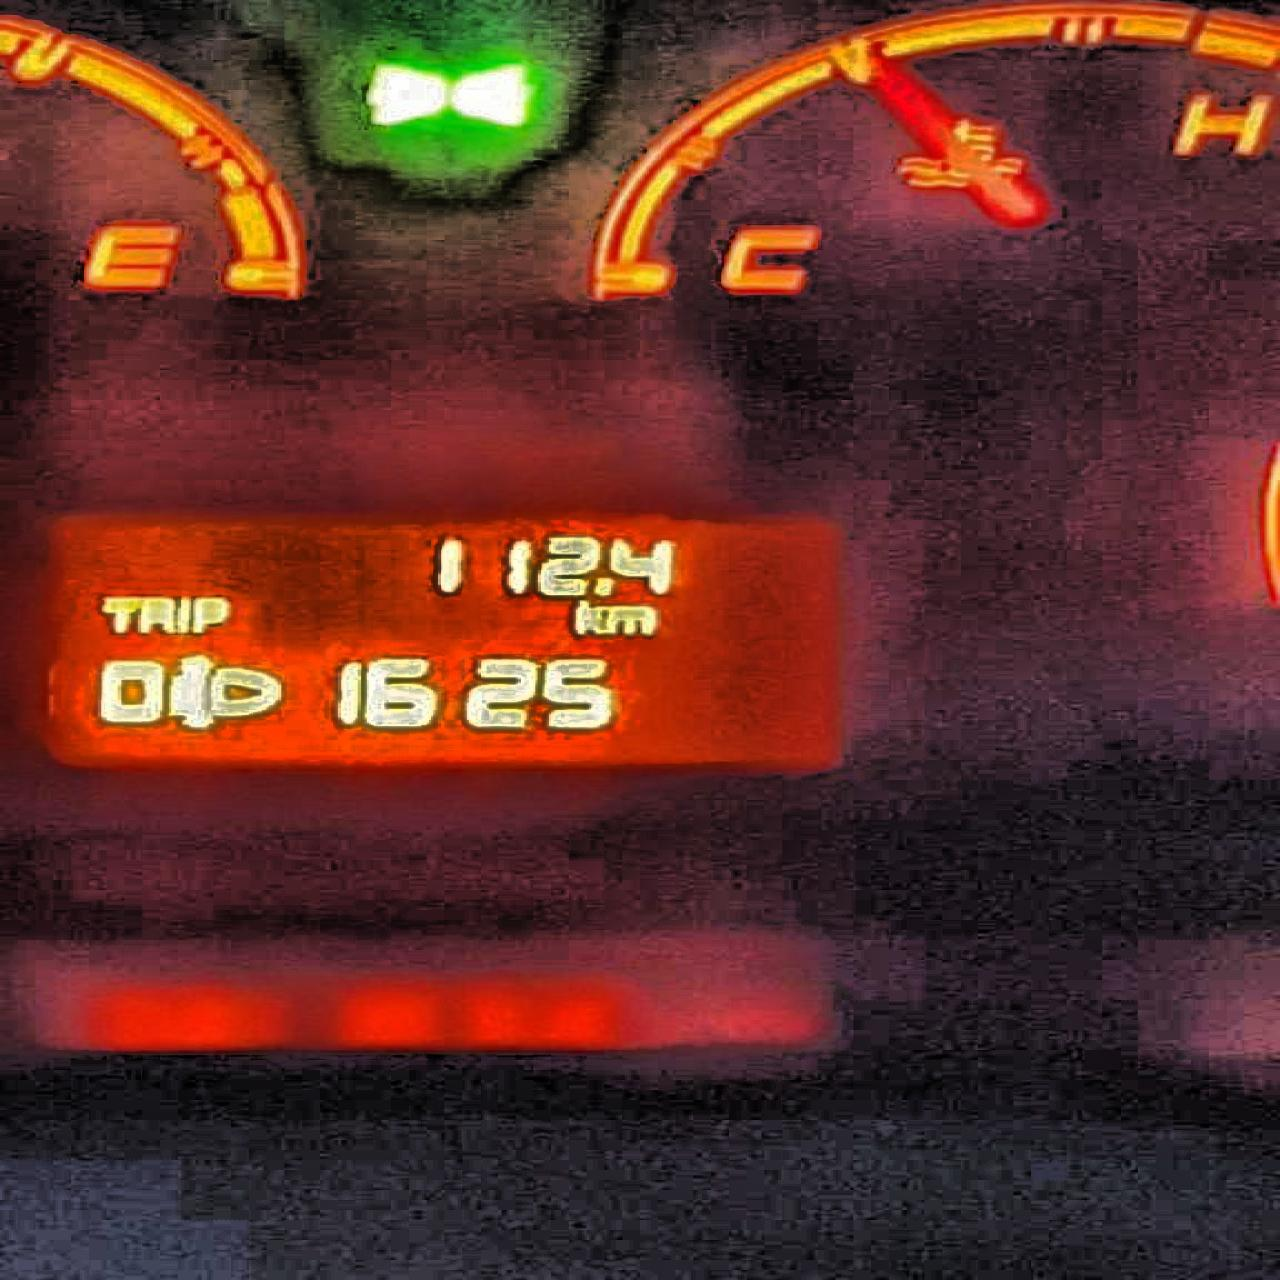-: (591, 573, 613, 599)
0: (94, 656, 166, 722)
1: (329, 655, 360, 726), (431, 533, 464, 595), (501, 531, 531, 597)
2: (464, 649, 536, 729), (538, 530, 600, 598)
4: (610, 535, 678, 595)
5: (540, 655, 618, 730)
6: (367, 651, 437, 730)
X: (605, 602, 658, 636), (95, 594, 134, 634), (193, 594, 226, 635), (136, 597, 171, 634), (571, 600, 602, 639), (173, 595, 191, 634)
odometer: (38, 505, 853, 775)
